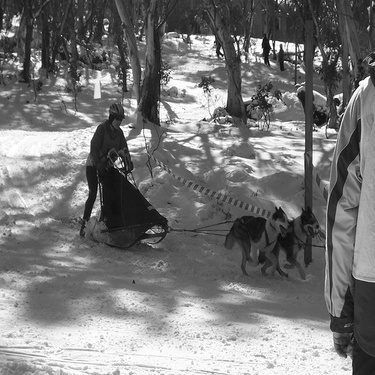dog: (212, 204, 293, 288), (272, 204, 328, 282)
